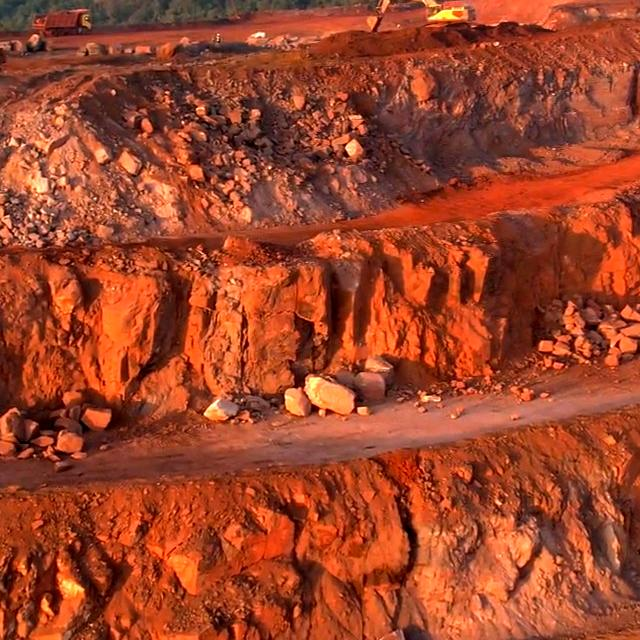Dumper truck: (36, 9, 97, 34)
Excavator: (415, 0, 479, 33)
person: (213, 31, 224, 48)
